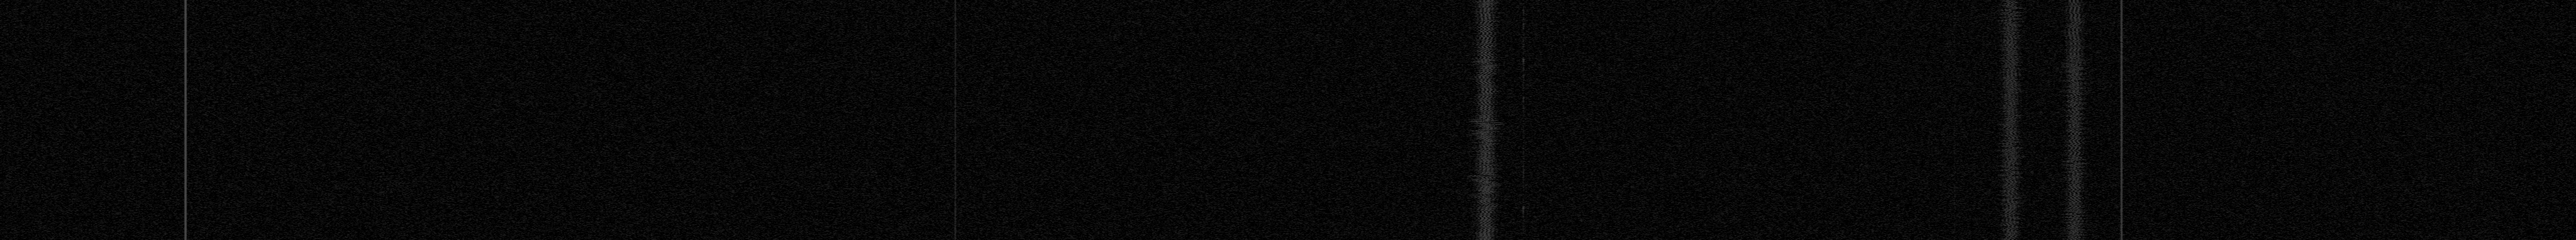wv_am: (2119, 0, 2123, 240), (184, 0, 187, 240)
wv_cw: (954, 0, 956, 240)
wv_lsb: (1521, 2, 1525, 92), (1521, 159, 1525, 202), (1521, 204, 1525, 237), (1521, 92, 1525, 117), (1521, 136, 1525, 158), (1521, 120, 1525, 136), (1521, 237, 1525, 240)
wv_usb: (1953, 41, 1957, 74), (1953, 146, 1957, 168), (1953, 10, 1957, 28), (1953, 178, 1957, 194), (1953, 210, 1957, 225), (1953, 194, 1957, 209), (1953, 92, 1957, 102), (1953, 228, 1957, 237), (1953, 122, 1957, 130), (1953, 140, 1957, 146), (1953, 132, 1957, 138), (1953, 115, 1957, 122), (1953, 102, 1957, 108), (1953, 35, 1957, 41), (1953, 28, 1957, 35), (1953, 87, 1957, 92), (1953, 81, 1957, 85), (1953, 5, 1957, 10), (1953, 237, 1957, 240), (1953, 169, 1955, 176), (1953, 168, 1957, 169), (1953, 77, 1957, 79), (1953, 2, 1957, 3), (1953, 74, 1955, 76)
wv_wbfm: (2054, 0, 2096, 240), (1465, 0, 1506, 240), (1991, 0, 2031, 240)
